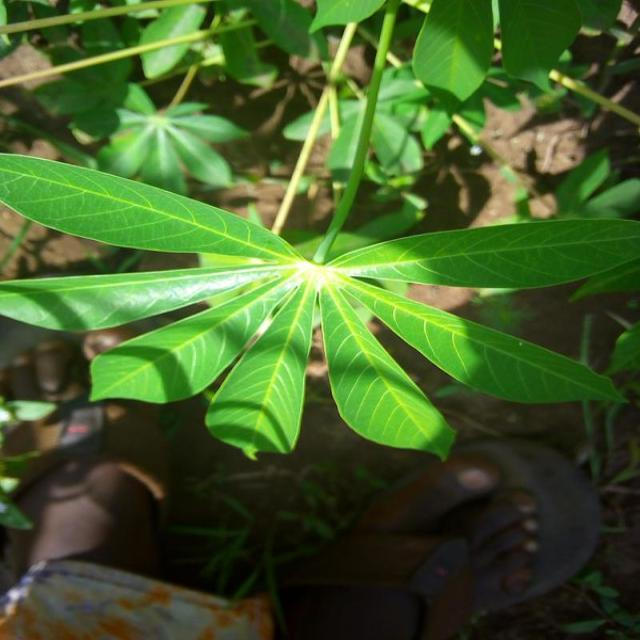cassava leaf: (0, 146, 638, 461)
